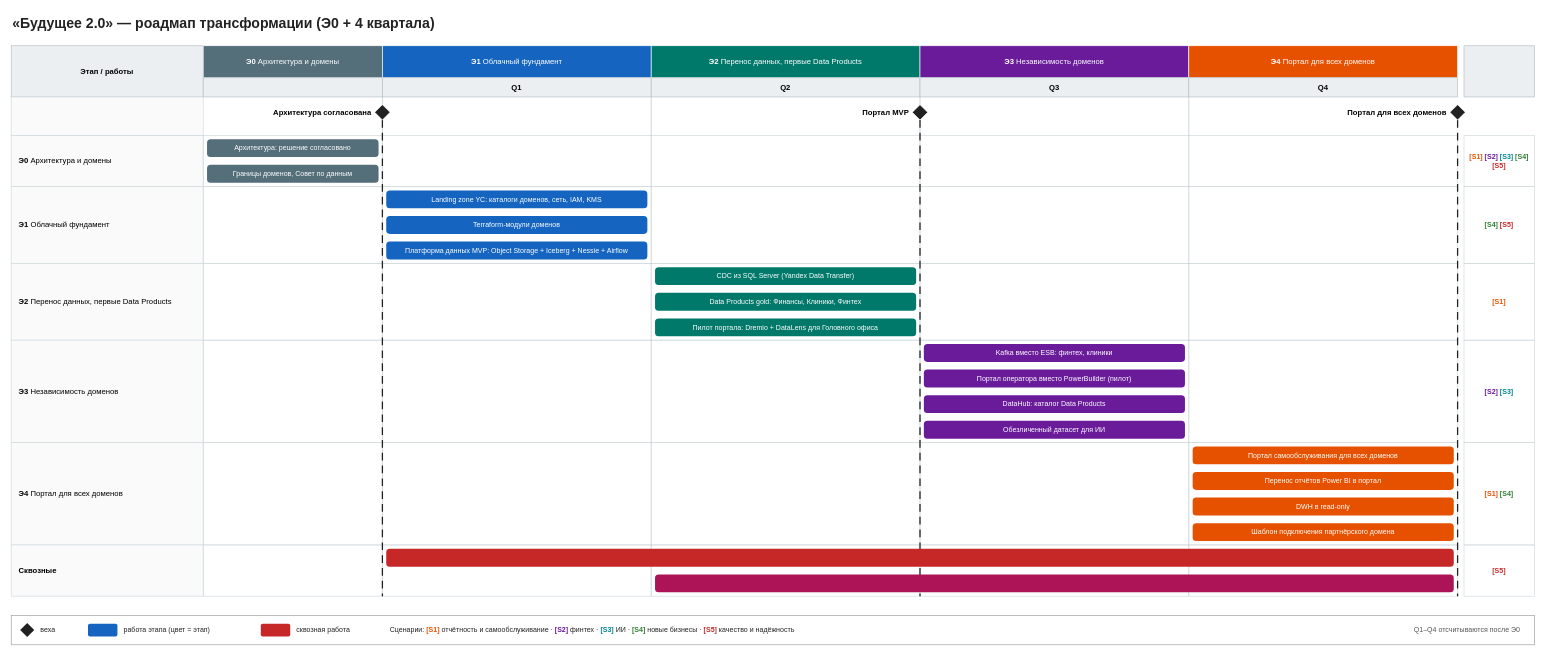
Image size: 1546x656. Some labels were removed from this diagram. The box of each missing label's shape, as (x1, y1, x2, y2) in pixels:
DR и геораспределение: Managed-кластеры в 3 зонах, бэкапы, учения DR: (655, 574, 1453, 592)
Вехи: (11, 96, 203, 135)
ИБ и соответствие: 152-ФЗ, требования ЦБ к банку, медицинские требования: (386, 548, 1453, 566)
М1–М2: (203, 77, 382, 97)
Сценарии: (1463, 45, 1534, 97)
